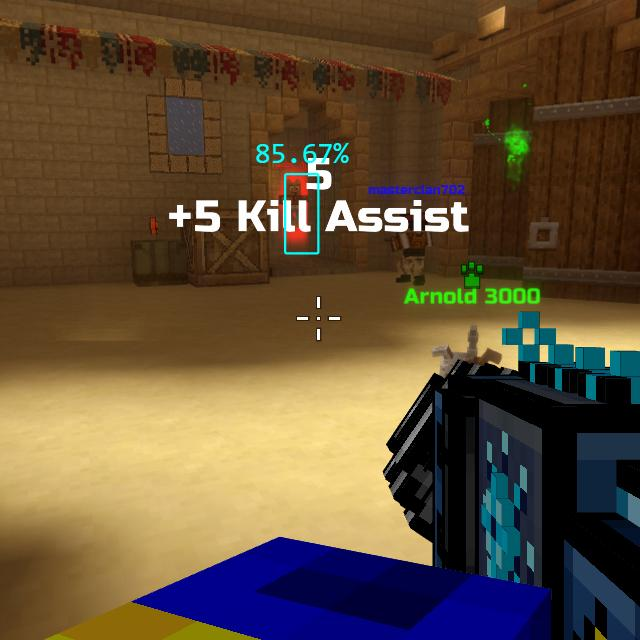Enemy: (278, 182, 308, 228)
